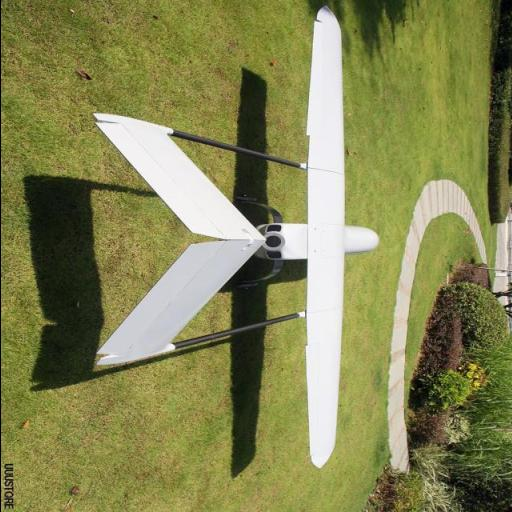uav: (76, 8, 380, 474)
